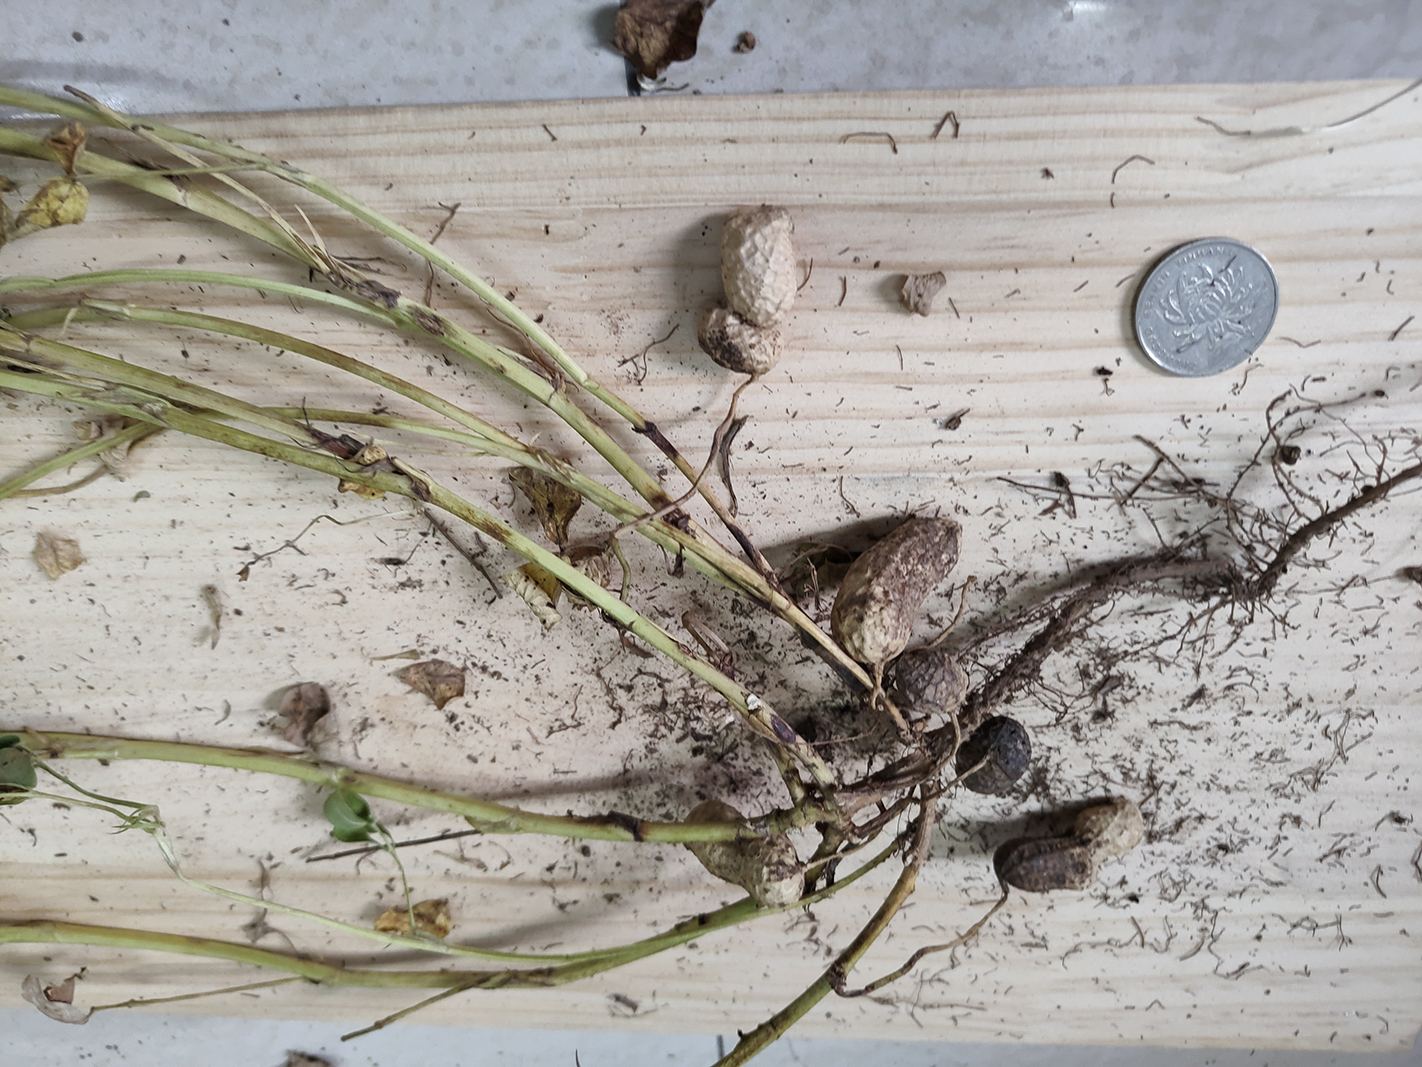h: (700, 205, 798, 371), (685, 802, 803, 906)
l: (831, 516, 957, 662), (992, 799, 1145, 890), (955, 717, 1032, 791), (895, 655, 968, 712)
